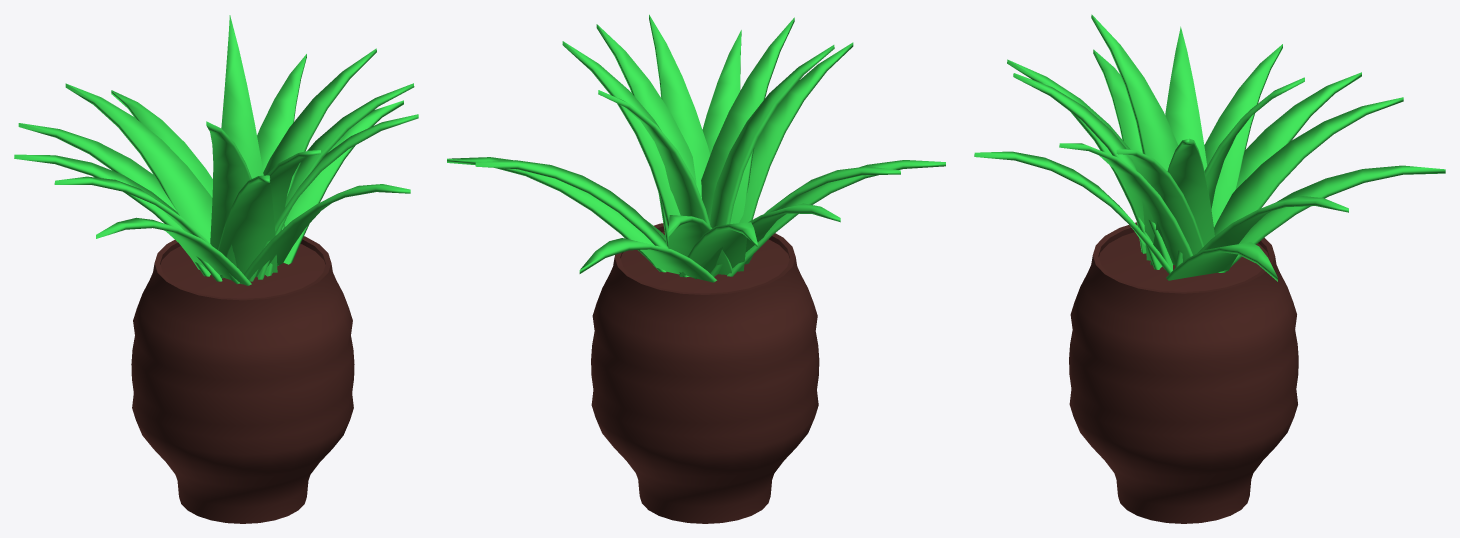
Rendered from Plante04_low.fbx.
3 views of the same model, side by side, from view 1: azimuth 30°, elevation 25°; view 2: azimuth 150°, elevation 25°; view 3: azimuth 270°, elevation 25° (orthographic). The views are drawn at different scales.
Visible parts, largest first — view 1: 04_Pot, 04_Plante, 04_Terre; view 2: 04_Pot, 04_Plante, 04_Terre; view 3: 04_Pot, 04_Plante, 04_Terre.
Boxes of the visible parts, left/top/right/bottom form: 04_Pot: left=131, top=236, right=354, bottom=523; 04_Plante: left=14, top=15, right=418, bottom=285; 04_Terre: left=160, top=244, right=325, bottom=298; 04_Pot: left=591, top=223, right=819, bottom=523; 04_Plante: left=447, top=14, right=945, bottom=282; 04_Terre: left=620, top=231, right=789, bottom=293; 04_Pot: left=1069, top=222, right=1298, bottom=523; 04_Plante: left=974, top=14, right=1445, bottom=281; 04_Terre: left=1099, top=232, right=1268, bottom=291.
Bounding box in the file's own units: 99.6 × 103 × 99.21.
